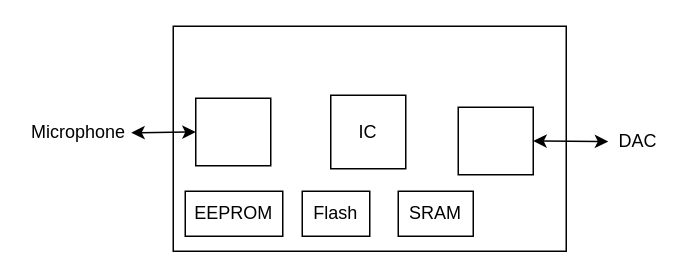
This 693x278 diagram has some shape labels left out. Each missing label, with the box of its shape:
A/D: (194, 97, 271, 166)
Digital I/O: (457, 106, 533, 175)
